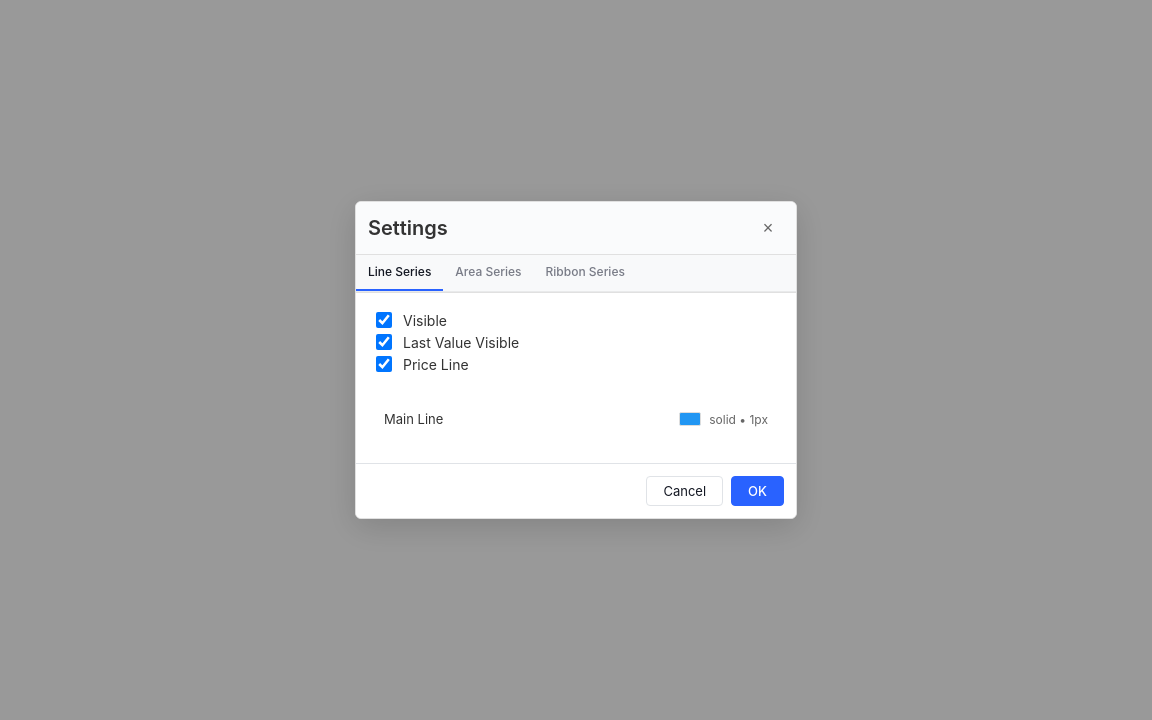
Test: SeriesSettingsDialog - Schema-Based Architecture › Tab Navigation › should show different settings for different series types
Check: the text "Main Line" is shown, box [384,411,443,427]
// Switch to area series
Click the tab "Area Series": [488, 273] box [443,255,534,291]
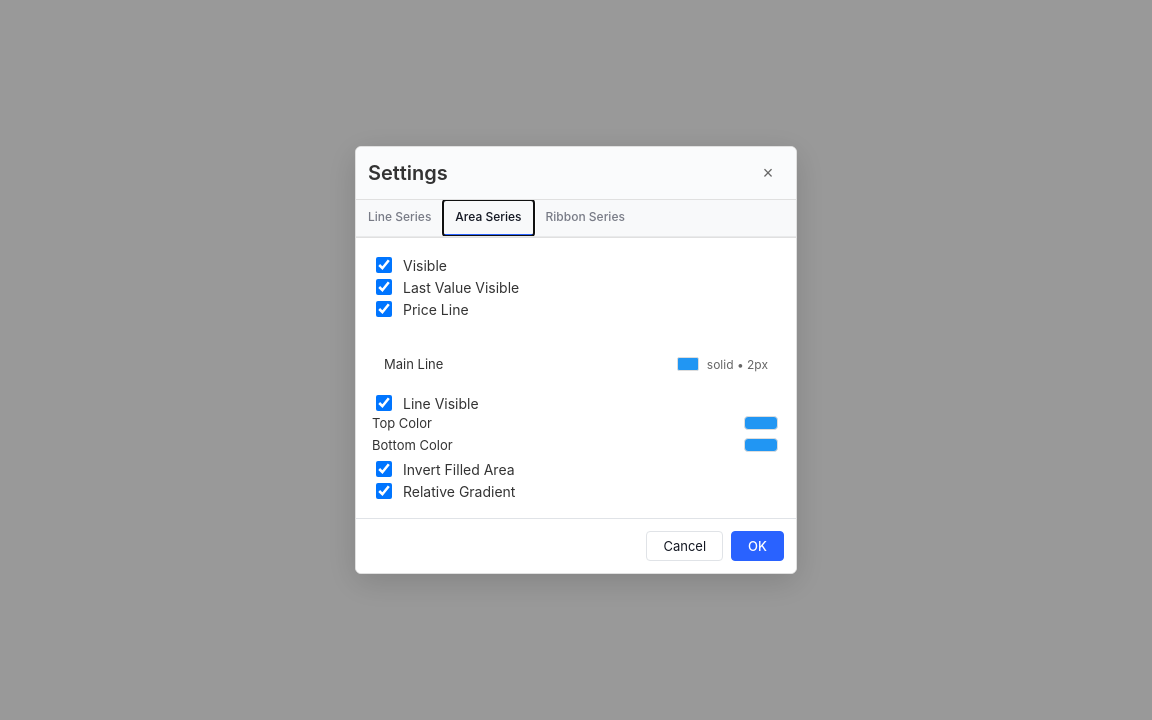
Check: the text "Top Color" is shown, box [372,415,432,431]
